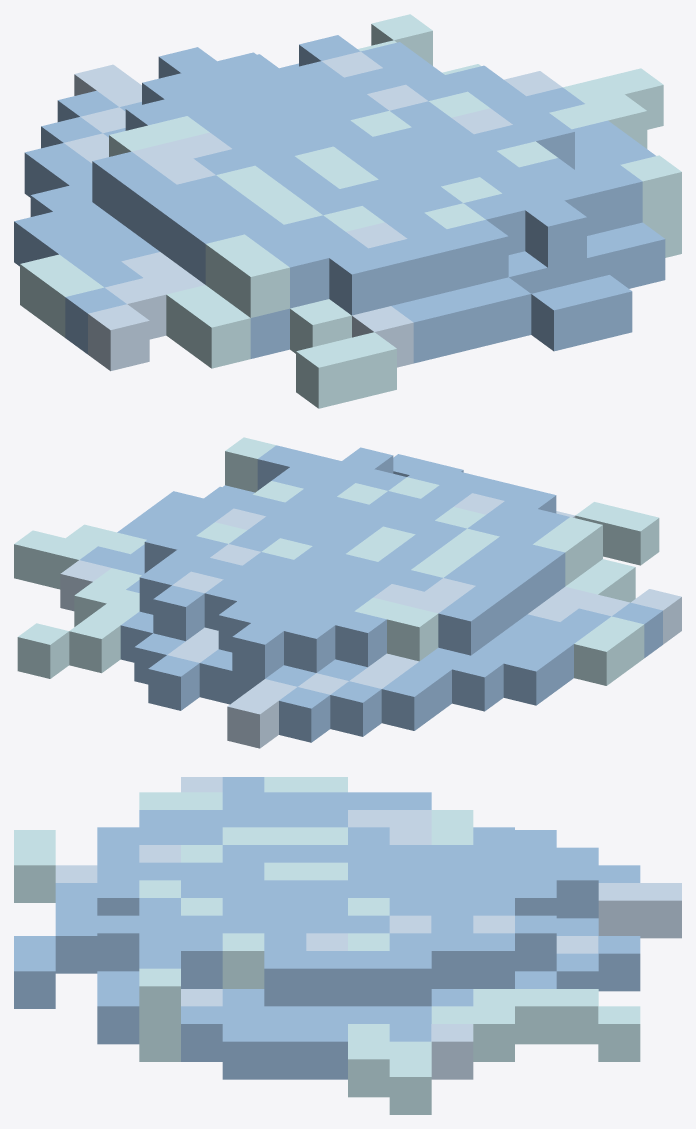
The model's file is grass_patches-4.obj.
3 renders of one model, top to bottom at view 1: azimuth 30°, elevation 25°; view 2: azimuth 150°, elevation 25°; view 3: azimuth 270°, elevation 25°, orthographic. The views are drawn at different scales.
Size of the model in its own units: 1.7 by 0.2 by 1.6.
